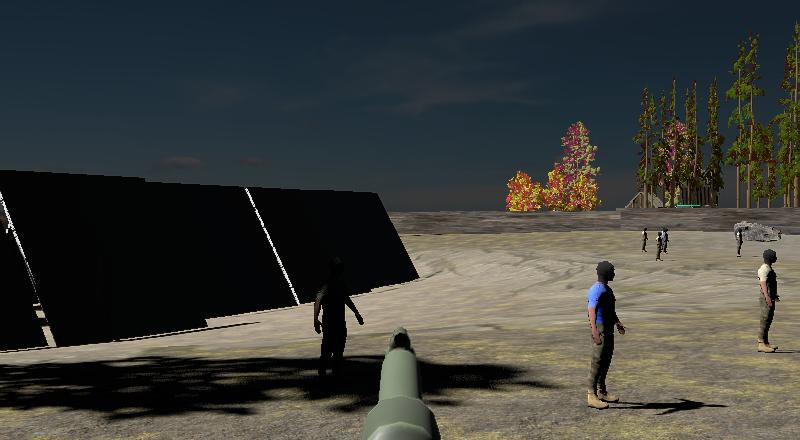Human: (578, 254, 631, 413), (753, 245, 785, 355), (653, 225, 671, 263), (653, 225, 668, 264), (638, 224, 651, 254)
